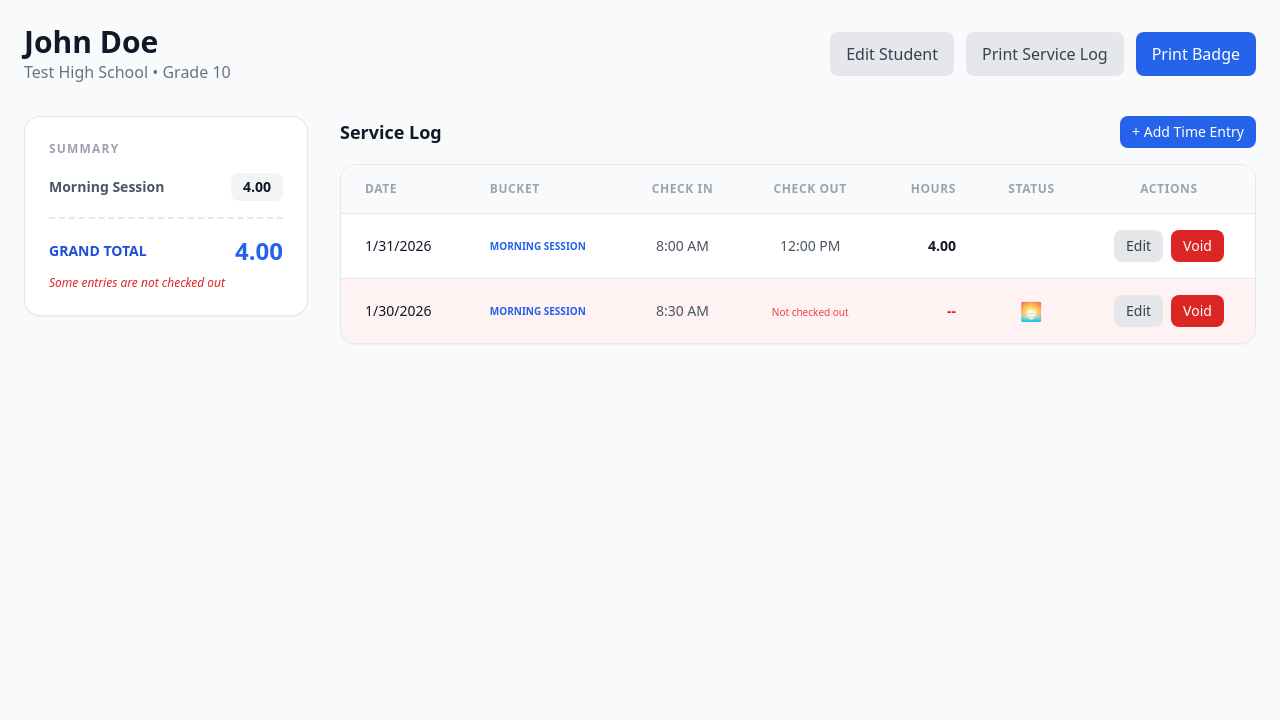
StudentDetailPage › edit modal › should open edit modal when Edit button is clicked
This screenshot has width=1280, height=720.
Step 1. Click the button "Edit" in the row of "1/31/2026" → (1139, 246), box [1114,230,1163,262]
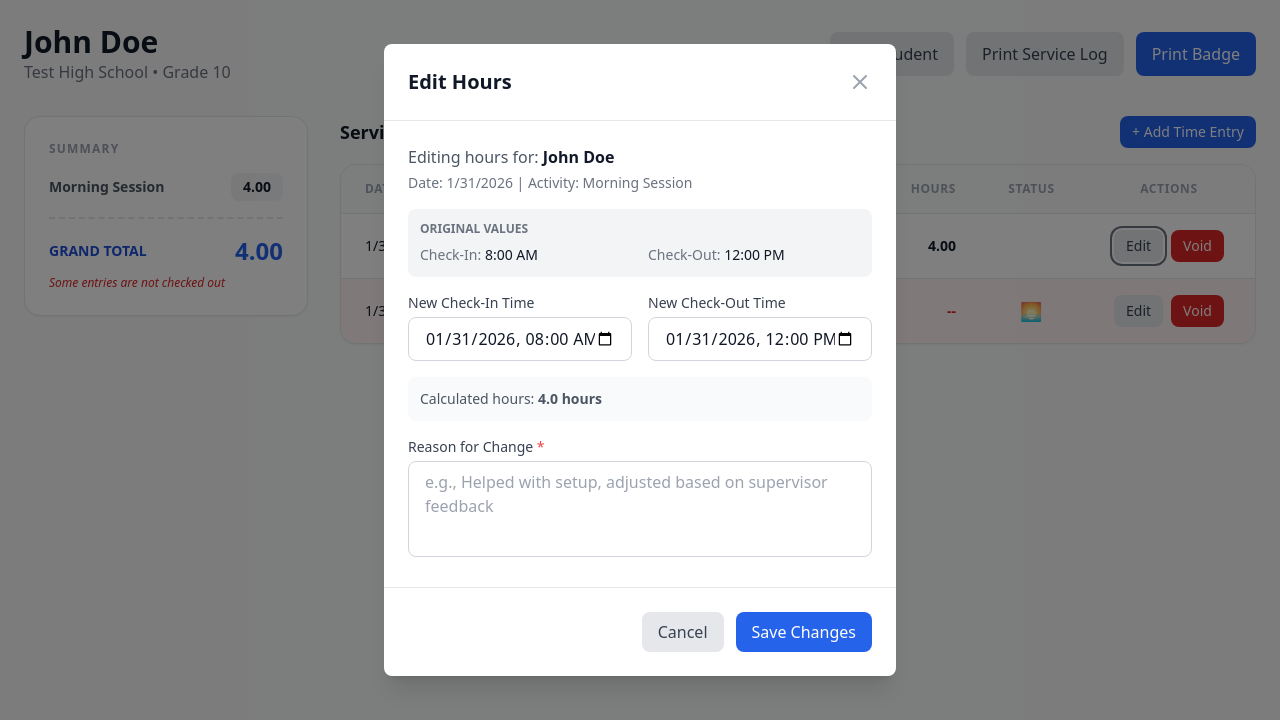
expect the heading "Edit Hours" is shown: met, box [408,68,512,96]
